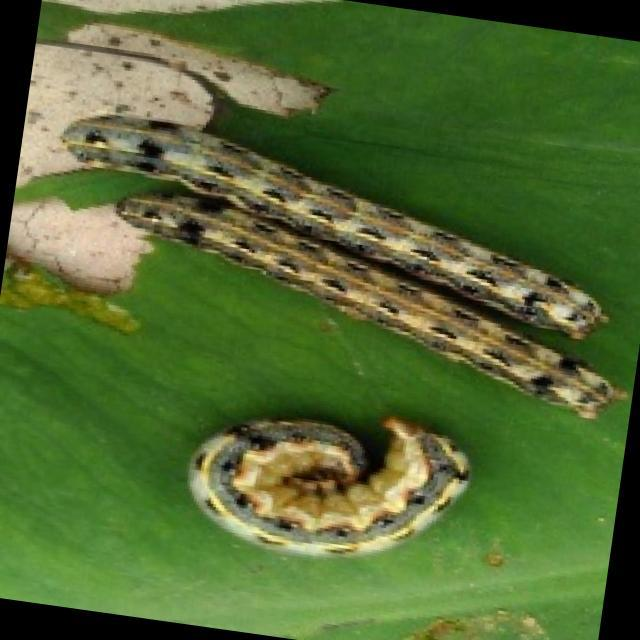Plaga: (38, 184, 640, 448), (39, 97, 640, 355), (159, 380, 497, 597)
